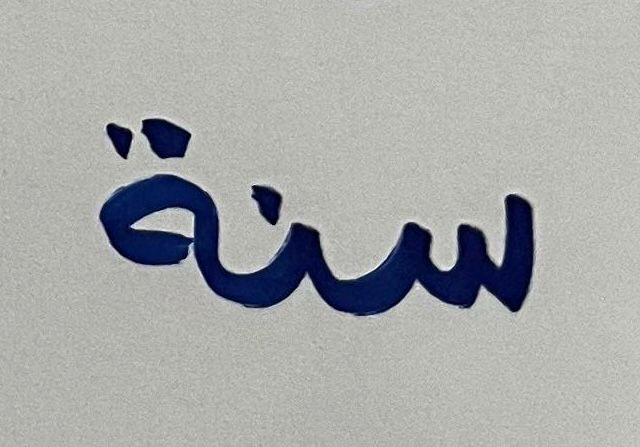noon: (224, 112, 334, 386)
seen: (345, 141, 575, 368)
teh_marbota: (58, 63, 223, 306)
